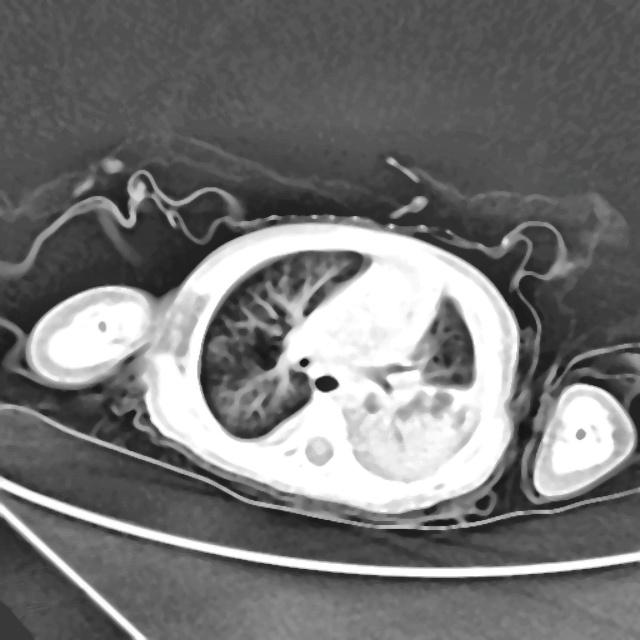covid: (0, 113, 640, 578)
